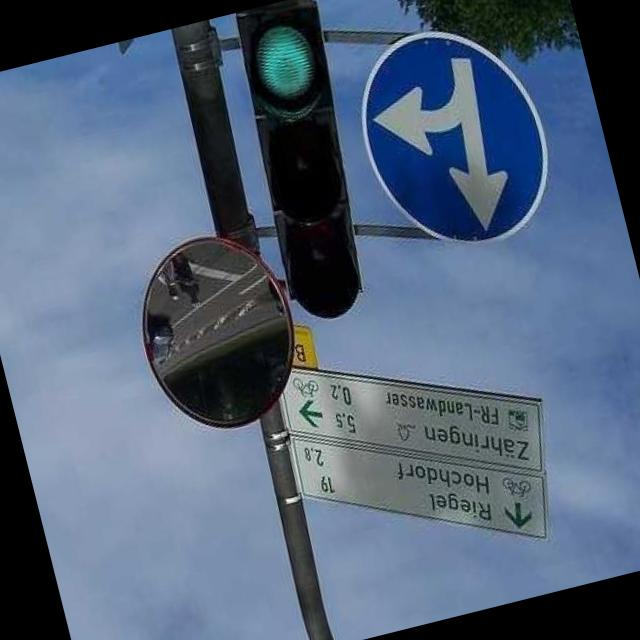green-lights: (220, 8, 364, 172)
